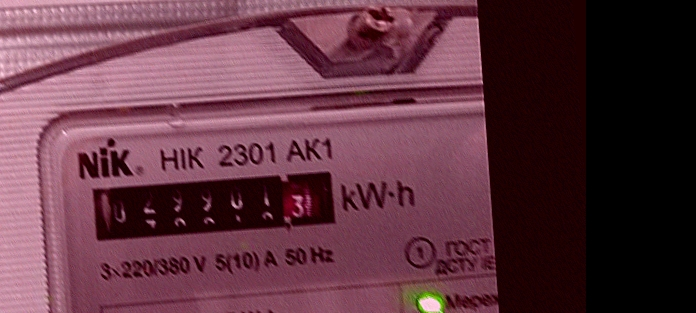0: (107, 196, 127, 224), (225, 182, 243, 212)
1: (256, 179, 271, 207)
2: (137, 188, 157, 216)
3: (286, 191, 305, 218)
9: (167, 186, 184, 214), (198, 185, 212, 213)
screen: (81, 161, 345, 251)
